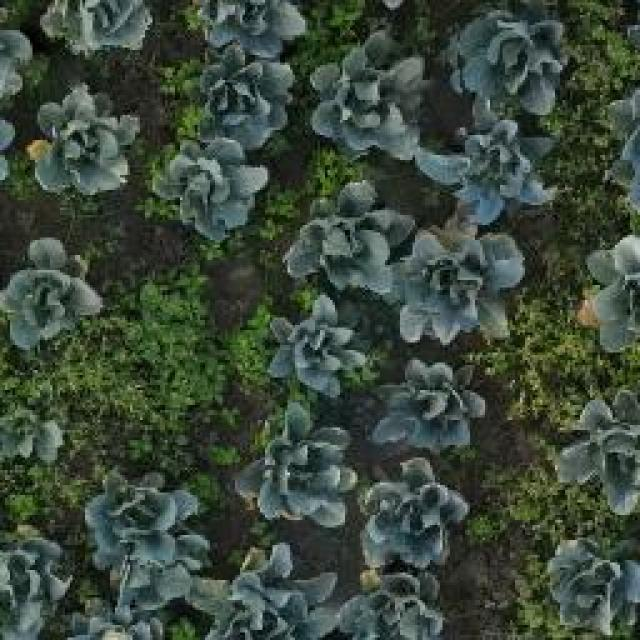cabbage: (391, 223, 527, 349), (282, 177, 392, 295), (424, 118, 557, 215), (247, 407, 353, 523), (205, 545, 333, 640), (24, 91, 135, 196), (311, 44, 418, 152), (370, 358, 487, 456), (358, 469, 466, 574), (458, 14, 572, 112), (85, 484, 212, 569), (200, 47, 303, 150), (158, 146, 267, 242), (554, 390, 640, 510), (0, 250, 98, 346), (279, 296, 370, 392), (547, 542, 640, 627), (38, 0, 165, 59), (0, 541, 71, 640), (341, 581, 444, 640), (0, 407, 67, 470)
